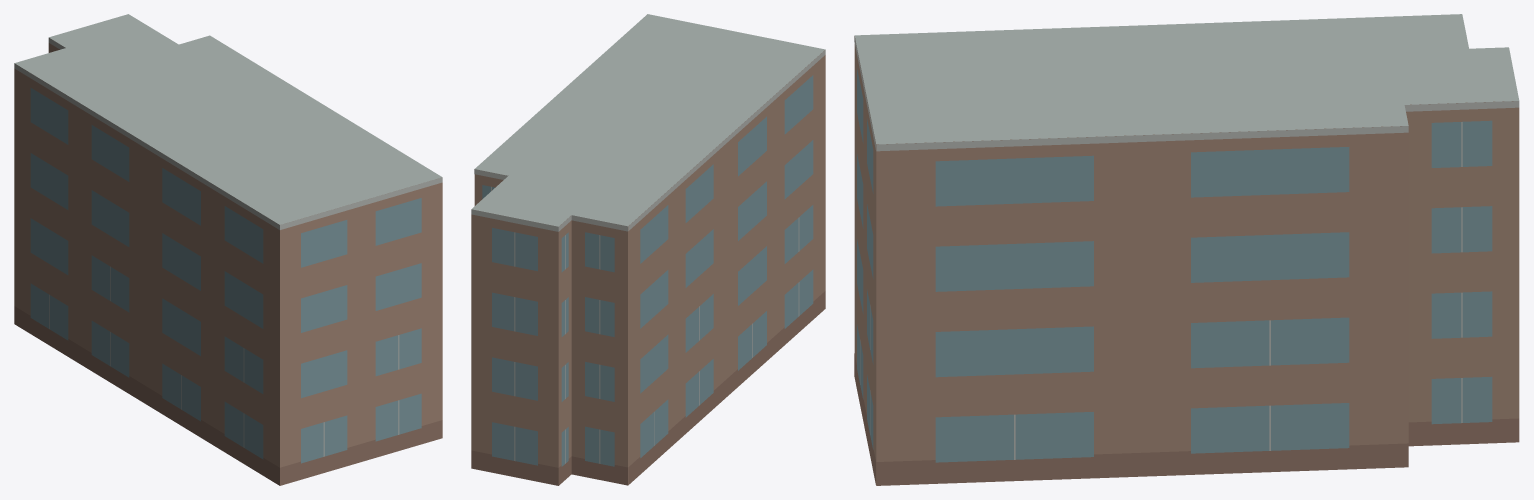
Rendered from residential-89794fec-35b1-478f-85b7-32cd64716d5f.glb.
3 views of the same model, side by side, from view 1: azimuth 30°, elevation 25°; view 2: azimuth 150°, elevation 25°; view 3: azimuth 270°, elevation 25° (orthographic). The views are drawn at different scales.
Visible parts, largest first — view 1: residential-89794fec-35b1-478f-85b7-32cd64716d5f.tmp; view 2: residential-89794fec-35b1-478f-85b7-32cd64716d5f.tmp; view 3: residential-89794fec-35b1-478f-85b7-32cd64716d5f.tmp.
Boxes of the visible parts, x1,y1,x2,y2 form: residential-89794fec-35b1-478f-85b7-32cd64716d5f.tmp: (14,14,442,485); residential-89794fec-35b1-478f-85b7-32cd64716d5f.tmp: (471,14,825,485); residential-89794fec-35b1-478f-85b7-32cd64716d5f.tmp: (854,14,1519,485).
Size of the model in its own units: 10.01 by 12.2 by 21.54.
